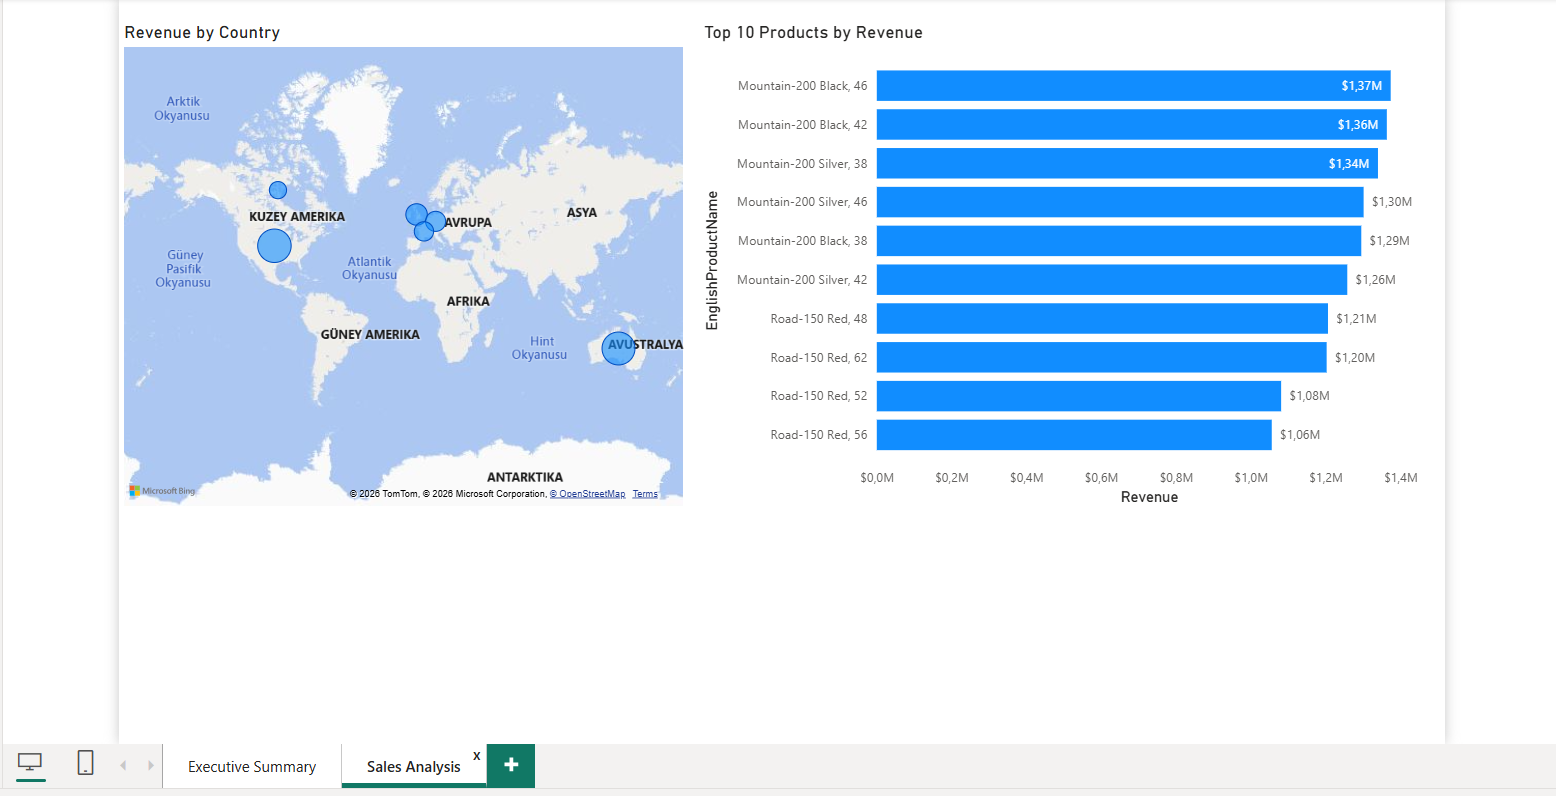

Layout of this report page (visuals, bound fields, positions):
{"tool":"powerbi","page":{"name":"Sales Analysis","canvas":[1280,720],"ordinal":1},"visuals":[{"type":"map","title":"Revenue by Country","fields":{"Category":["DimGeography.EnglishCountryRegionName"],"Size":["_Measure.Revenue"]},"box":[0,23.2,550.3,472],"z":0},{"type":"clusteredBarChart","title":"Top 10 Products by Revenue","fields":{"Category":["DimProduct.EnglishProductName"],"Y":["_Measure.Revenue"]},"box":[560.1,23.2,720.2,472],"z":1}]}

Visuals, with their boxes on the page's 1280x720 design canvas (x1, y1, x2, y2). These are canvas units, not pixel positions in the 1556x796 screenshot, which may show the page scaled, cropped or inside an application window:
"Revenue by Country" map: bbox=[0, 23, 550, 495]
"Top 10 Products by Revenue" clusteredBarChart: bbox=[560, 23, 1280, 495]
